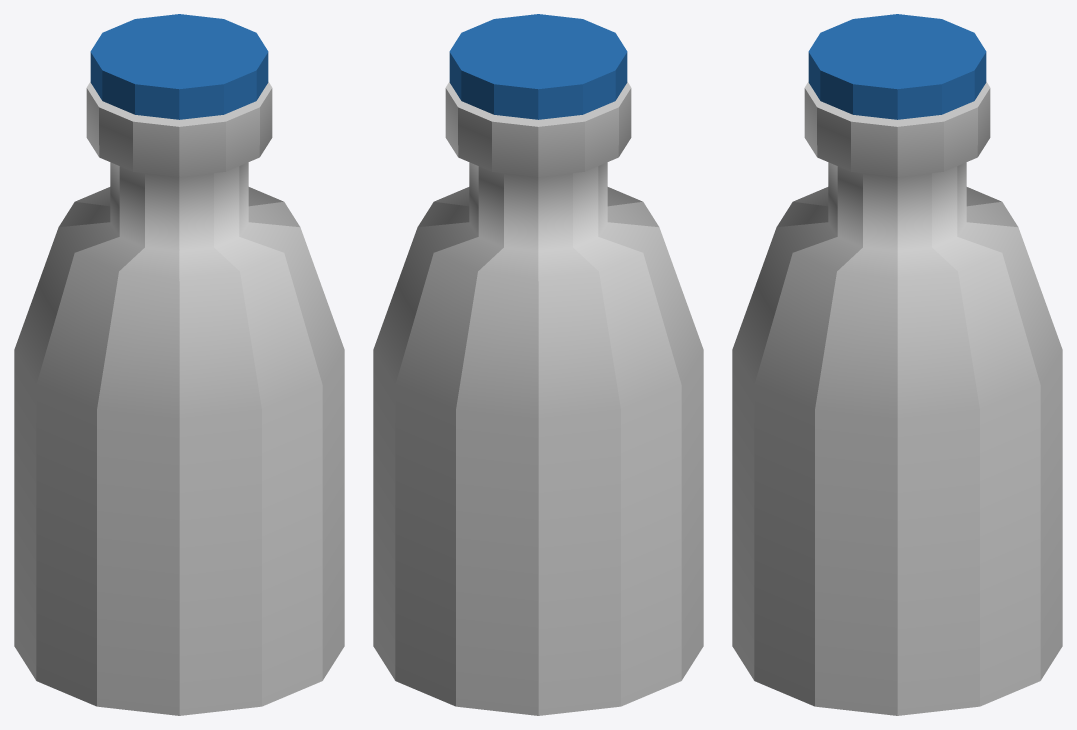
Rendered from regeant_bottle_yellow_new.fbx.
The picture shows the model from 3 angles, left to right: view 1: azimuth 30°, elevation 25°; view 2: azimuth 150°, elevation 25°; view 3: azimuth 270°, elevation 25°; orthographic projection.
Visible parts, largest first — view 1: bottle, cap; view 2: bottle, cap; view 3: bottle, cap.
Part boxes in pixels (x1,y1,x2,y2): bottle: (14, 82, 344, 715); cap: (90, 14, 268, 119); bottle: (373, 82, 703, 715); cap: (449, 14, 627, 119); bottle: (732, 82, 1062, 715); cap: (808, 14, 986, 119).
Bounding box in the file's own units: 134 × 265 × 134.
